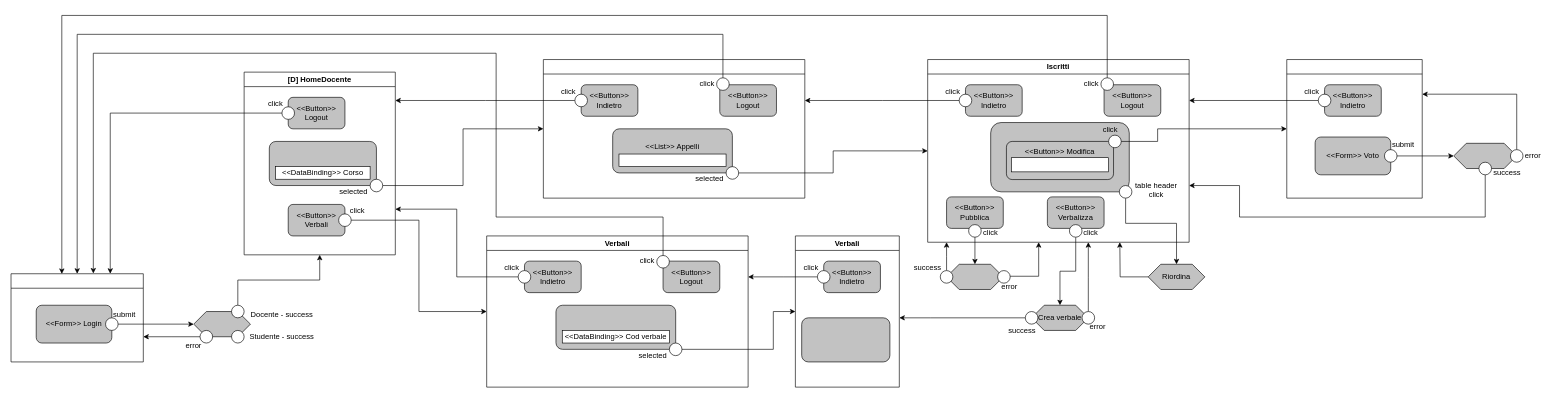
The diagram is 1563 pixels wide and 398 high, and some of its shapes have lost their labels. The shapes that lost their labels are listed below. From the top down, each one's box as (x1, y1, x2, y2) in pixels, then its label:
(543, 59, 805, 198): AppelliDocente
(1286, 59, 1422, 198): ModificaVoto
(269, 141, 376, 186): <<List>> Corsi
(618, 153, 726, 167): <<DataBinding>> Data appello
(990, 122, 1129, 192): <<List>> Iscritti
(1011, 157, 1109, 172): <<DataBinding>> Studente
(1453, 143, 1517, 169): Modifica voto
(946, 264, 1003, 289): Pubblica
(10, 273, 143, 362): Autenticazione
(193, 311, 250, 337): Login
(555, 305, 676, 349): <<List>> Verbali
(801, 317, 890, 362): <<Form>> Verbale
